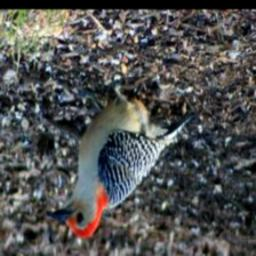Woodpecker: (48, 71, 189, 237)
